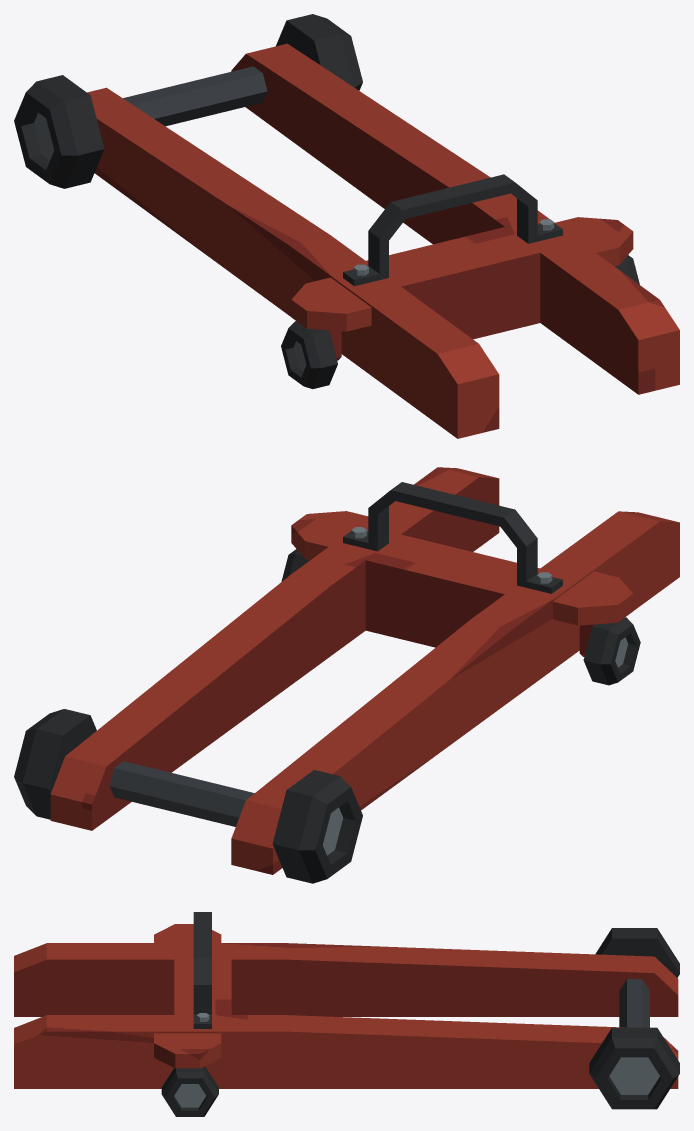
Rendered from SM_Prop_CarJack_01.fbx.
The picture shows the model from 3 angles, top to bottom: view 1: azimuth 30°, elevation 25°; view 2: azimuth 150°, elevation 25°; view 3: azimuth 270°, elevation 25°; orthographic projection. The views are drawn at different scales.
Visible parts, largest first — view 1: SM_Prop_CarJack_01; view 2: SM_Prop_CarJack_01; view 3: SM_Prop_CarJack_01.
Boxes of the visible parts, <box> form: SM_Prop_CarJack_01: <box>14,14,679,438</box>; SM_Prop_CarJack_01: <box>14,467,679,883</box>; SM_Prop_CarJack_01: <box>14,912,679,1116</box>.
Size of the model in its own units: 49.66 by 21.09 by 106.
